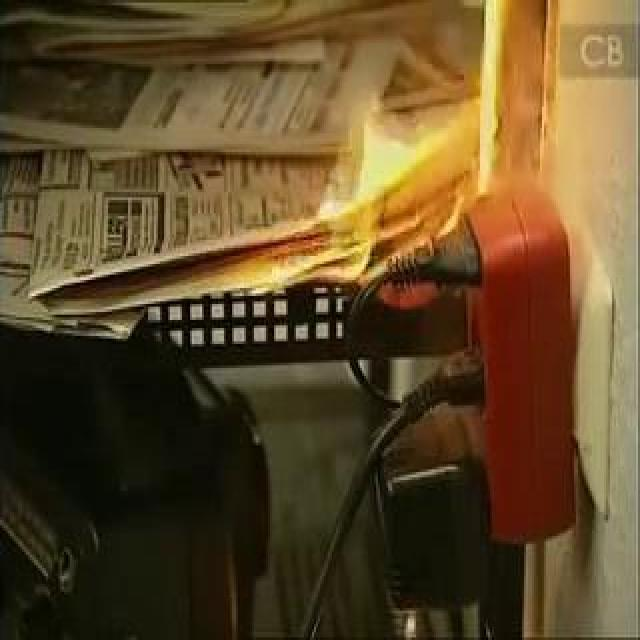Fire: (230, 3, 550, 317)
